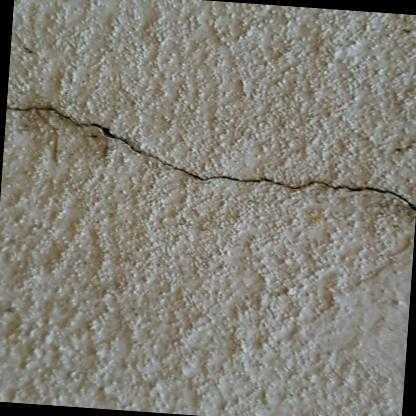crack: (7, 106, 416, 211)
